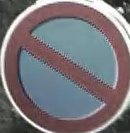No waiting: (5, 4, 122, 126)
